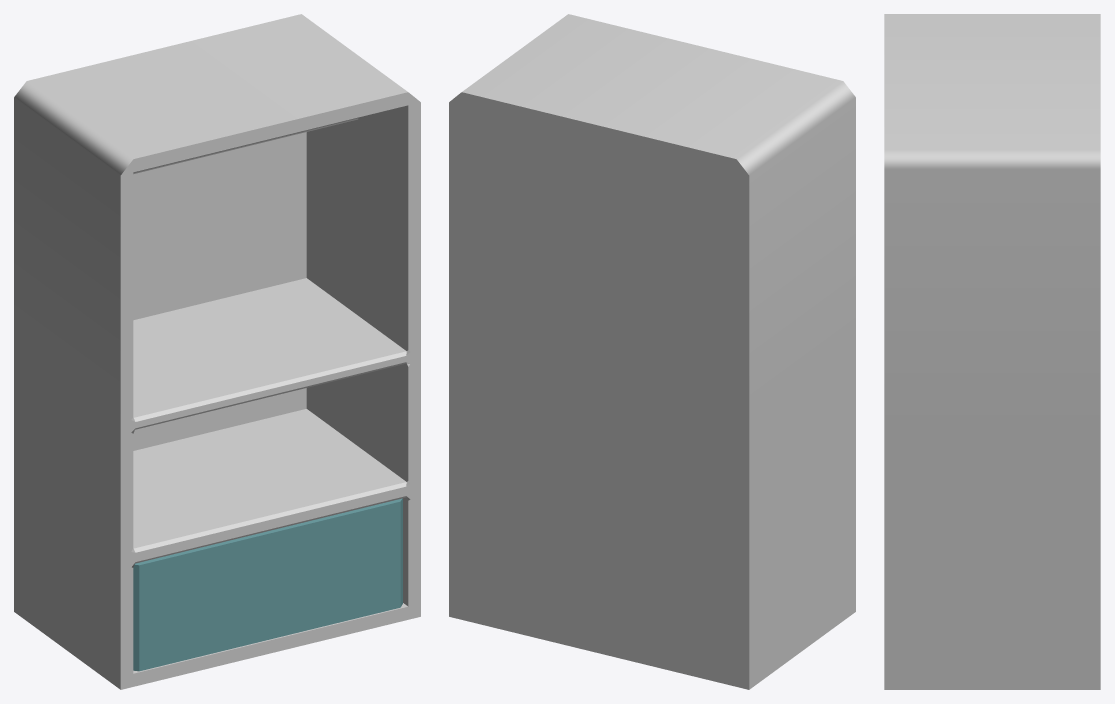
The model's file is wardrobe.fbx.
3 renders of one model, left to right at view 1: azimuth 30°, elevation 25°; view 2: azimuth 150°, elevation 25°; view 3: azimuth 270°, elevation 25°, orthographic.
Visible parts, largest first — view 1: pCube6, pCube3; view 2: pCube6; view 3: pCube6.
Part boxes in pixels (box(x1,y1,x2,y2)): pCube6: box(14, 14, 420, 689); pCube3: box(133, 498, 402, 671); pCube6: box(449, 14, 855, 689); pCube6: box(884, 14, 1100, 689).
Size of the model in its own units: 1 by 1.68 by 0.6161.
